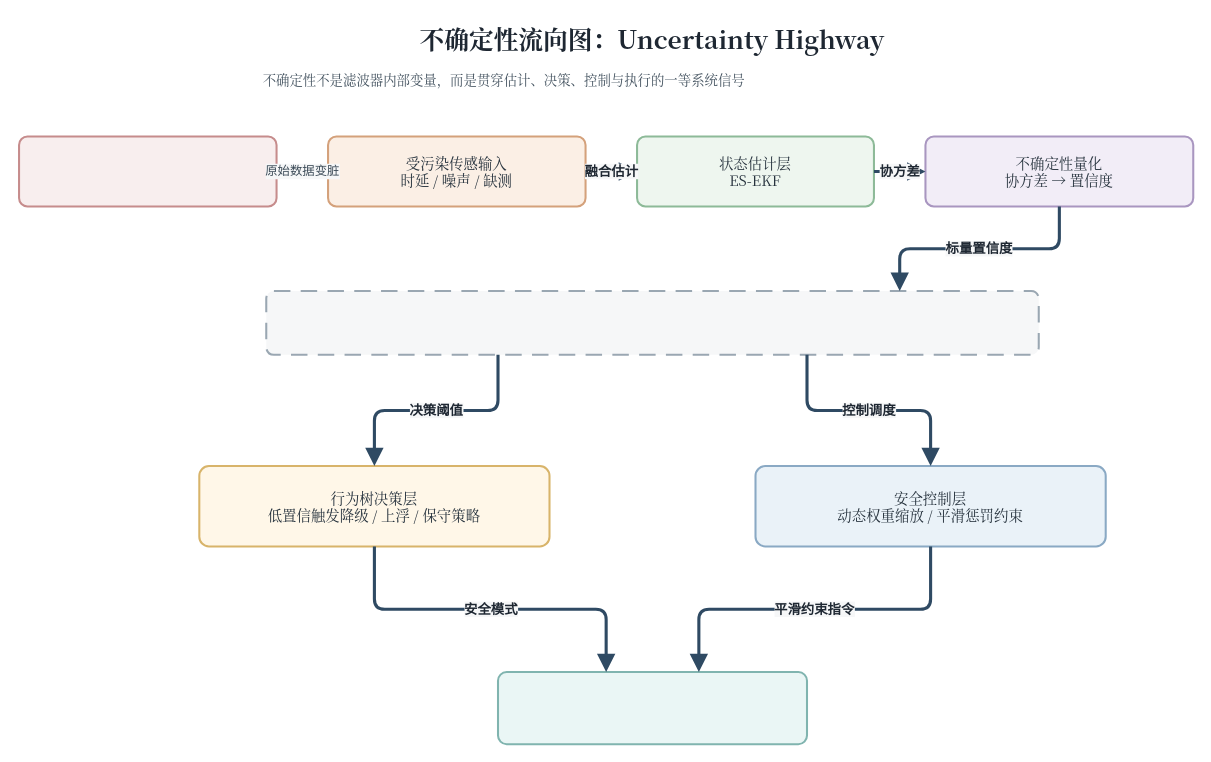
The diagram is 1211 pixels wide and 762 high, and some of its shapes have lost their labels. Each missing label, with the centre of its shape:
"Uncertainty Highway：置信度作为全局调度信号" belongs at pixel 652 322.
"底层执行器 安全平滑指令" belongs at pixel 652 708.
"物理层干扰 DVL 丢包 / 磁饱和 / 水流扰动" belongs at pixel 147 171.
